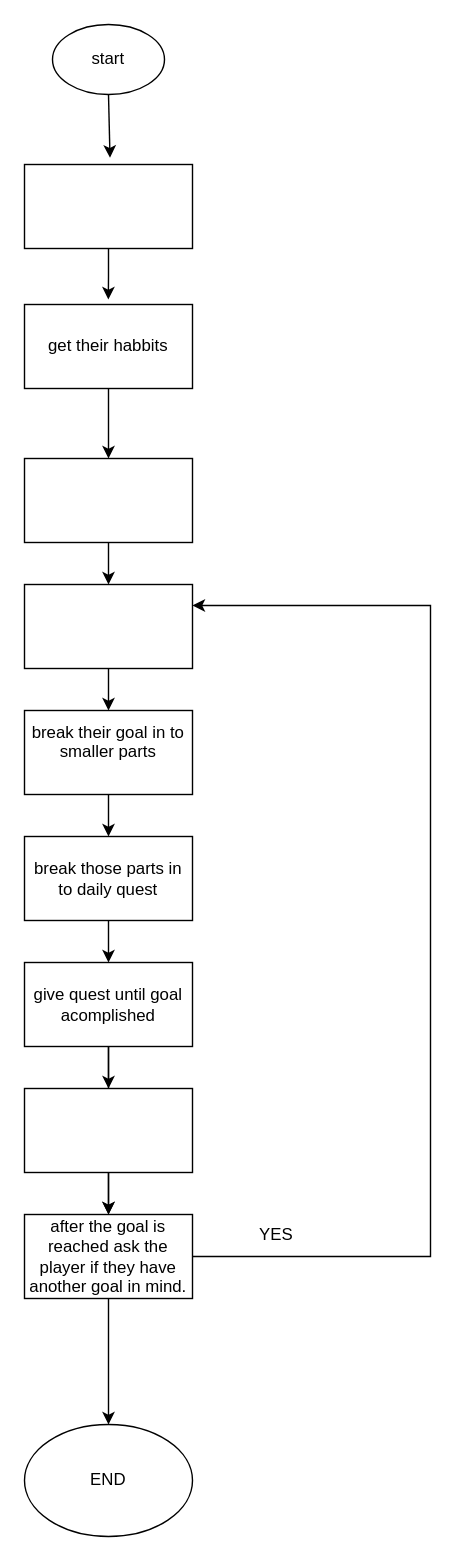
Some shapes in this 466 by 1561 pixel diagram are drawn without their labels. Each missing label, with the centre of its shape:
"Based on the quest completion system reward or punish" belongs at pixel 107 1129.
"Get the user main goal" belongs at pixel 107 625.
"get their story" belongs at pixel 107 205.
"personality" belongs at pixel 107 499.
